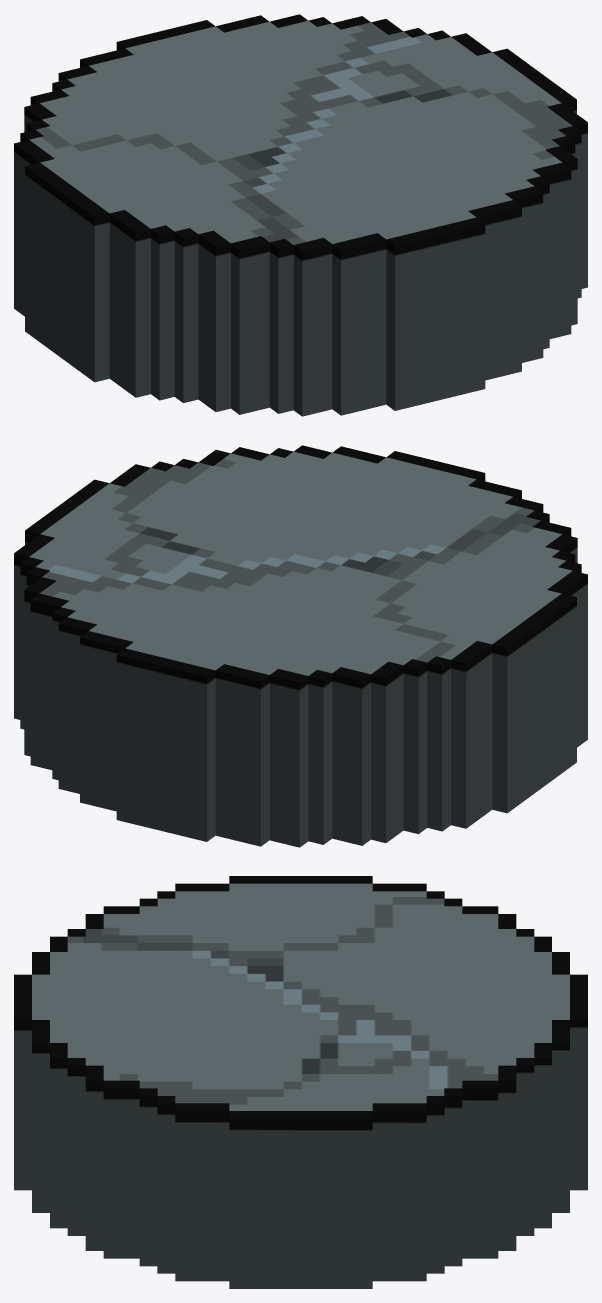
The model's file is tile_smaple.fbx.
3 views of the same model, one above another, from view 1: azimuth 30°, elevation 25°; view 2: azimuth 150°, elevation 25°; view 3: azimuth 270°, elevation 25° (orthographic). The views are drawn at different scales.
Visible parts, largest first — view 1: Box002; view 2: Box002; view 3: Box002.
Part boxes in pixels (<box>): Box002: <box>14,14,587,416</box>; Box002: <box>14,445,587,847</box>; Box002: <box>14,876,587,1288</box>.
Size of the model in its own units: 28 by 28 by 9.17.
1 material, 1 textured.
